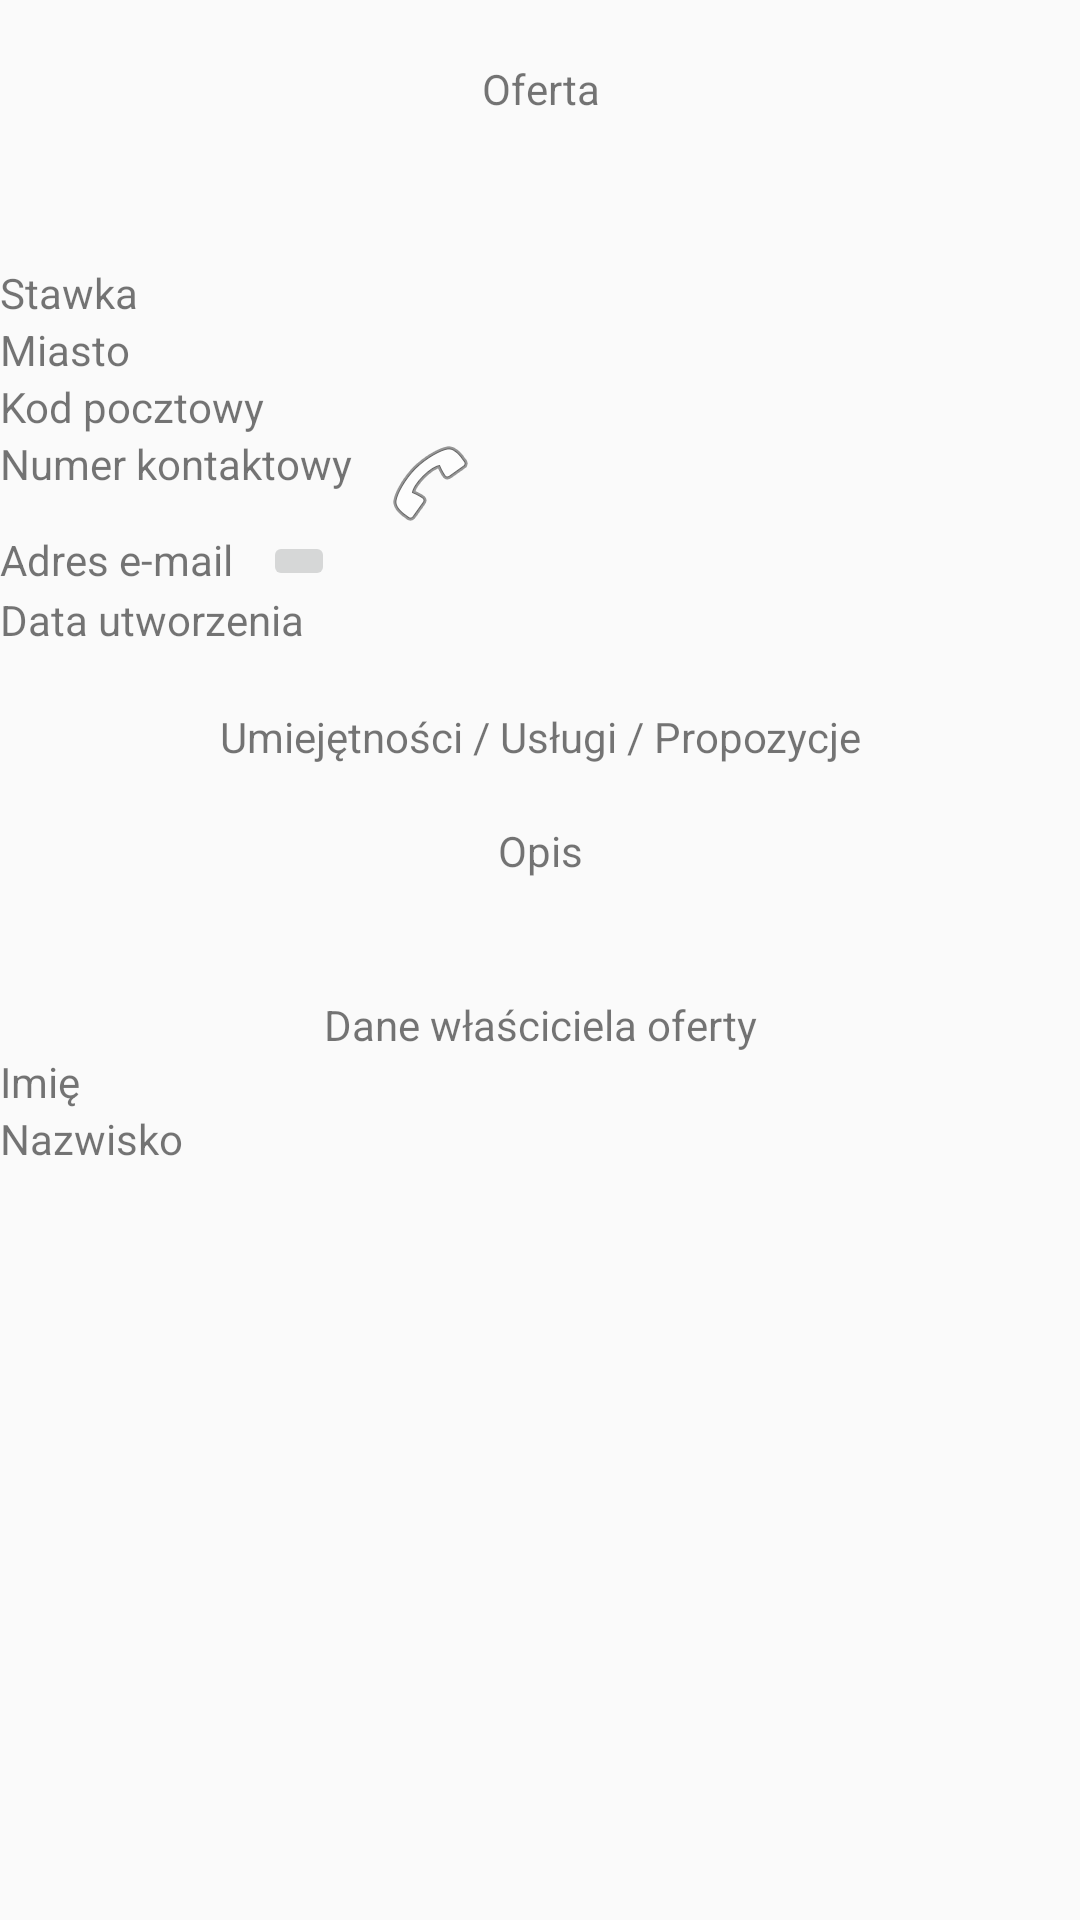

Screen size 1080w x 1920h. Icon name, then its center in pixels as point (x, y):
call: point (430, 483)
